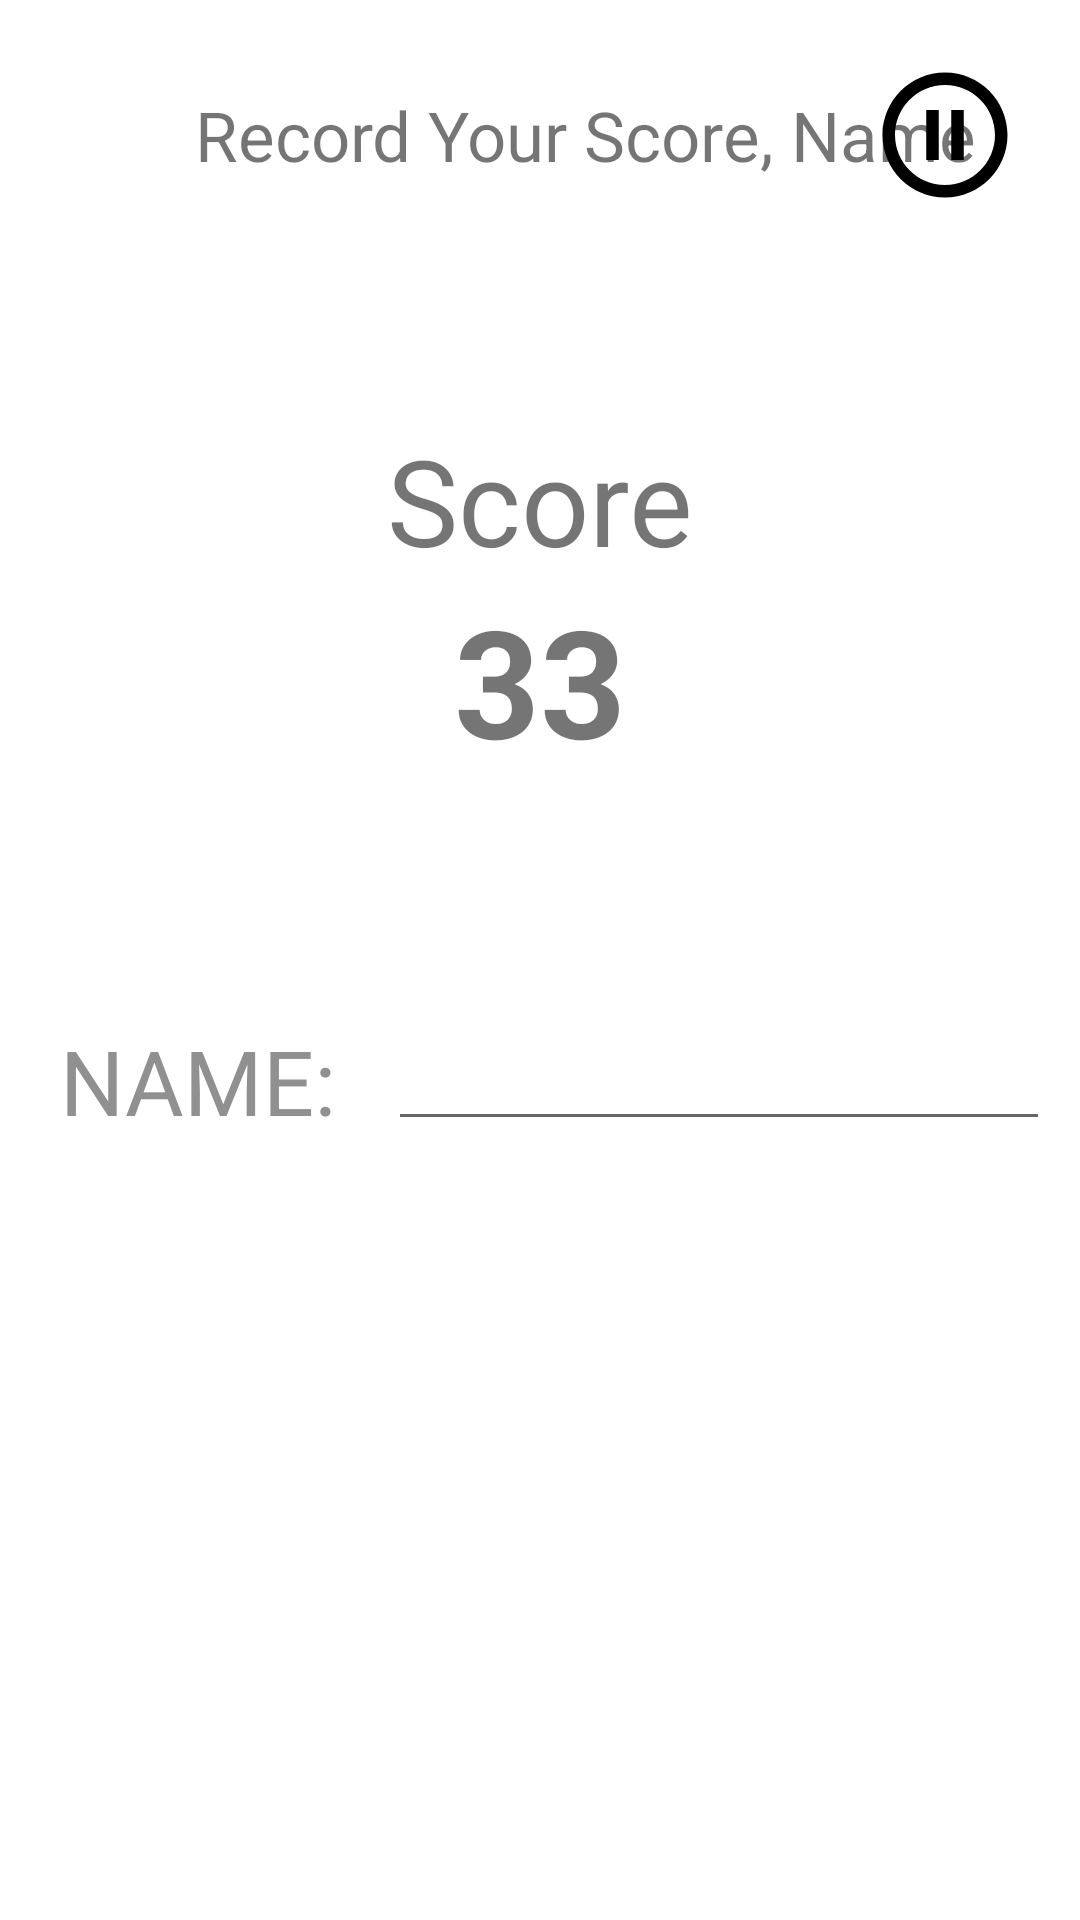

Screen size 1080w x 1920h. Icon name, then its center in pixels as point (x, y):
pause: point (945, 135)
